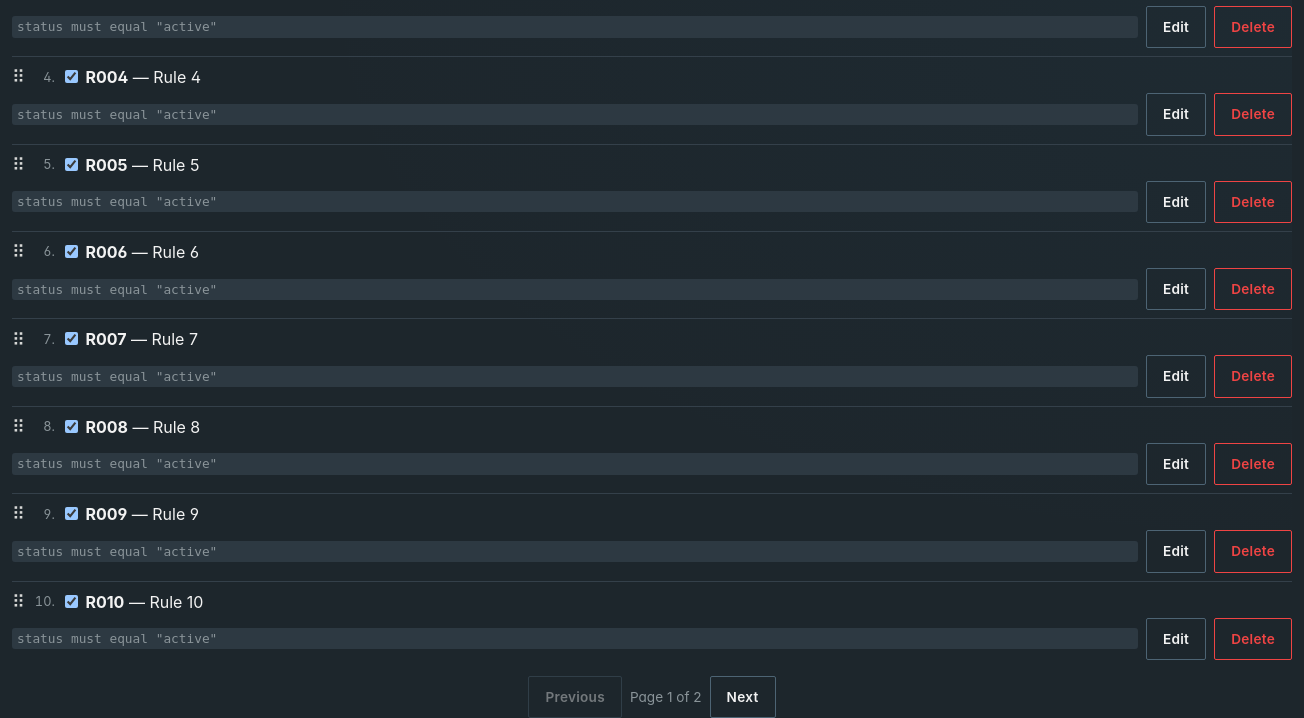
SortableRuleList › paginates rules in groups of ten and navigates between pages
The image size is (1304, 718).
(page scrolled)
Check: the text "R010" is shown, box x1=85 y1=592 x2=124 y2=612
Check: the text "R011" is not shown
Click the button "Next". click: (743, 697)
box: x1=710 y1=676 x2=776 y2=717
(page scrolled)
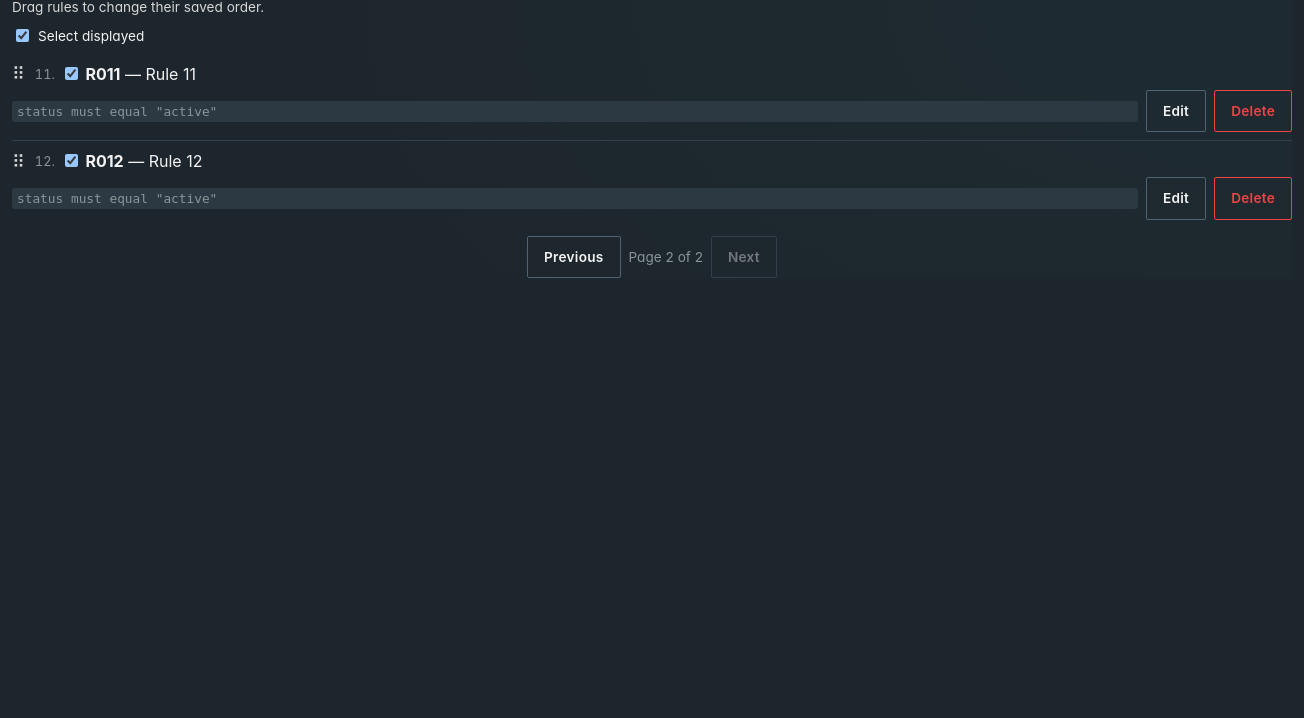
Check: the text "R011" is shown, box x1=85 y1=64 x2=120 y2=84
Check: the text "Page 2 of 2" is shown, box x1=628 y1=247 x2=703 y2=267
